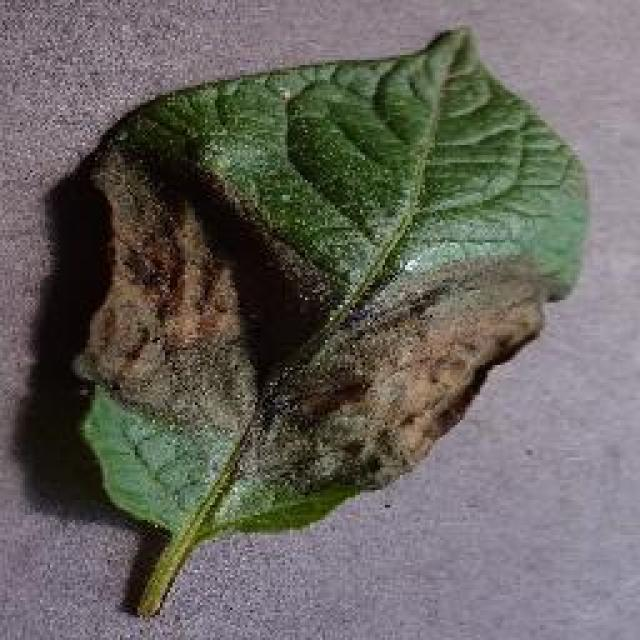late_blight: (60, 22, 592, 618)
